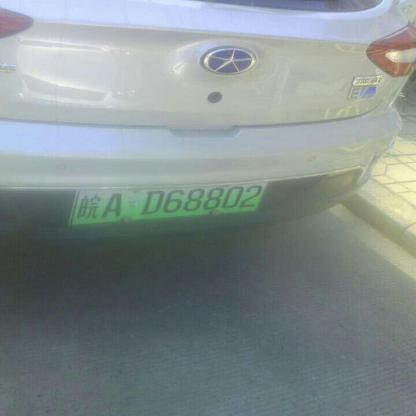lp: (70, 182, 268, 225)
